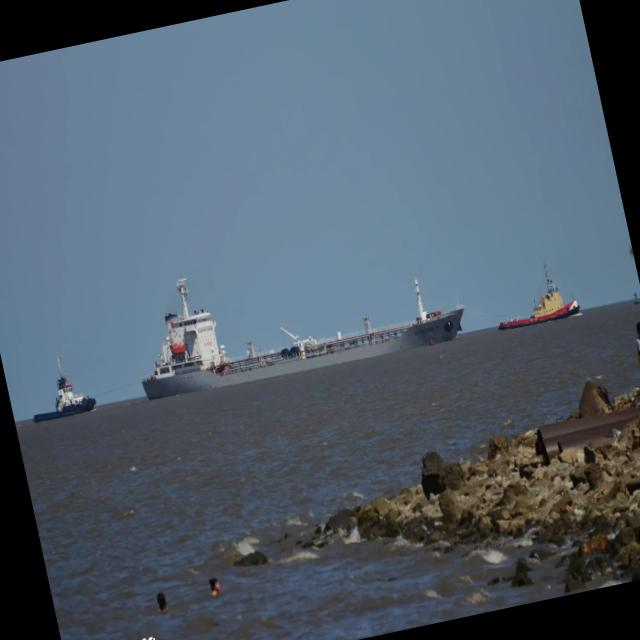Tanker: (142, 275, 463, 399)
Tug: (499, 263, 580, 329), (33, 365, 95, 422)
